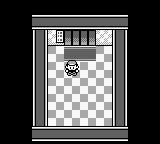leer: (55, 31, 64, 43)
main: (65, 61, 79, 75)
no-caminable: (0, 15, 159, 143), (32, 28, 48, 126), (112, 30, 128, 126), (31, 14, 129, 28), (32, 126, 128, 140)
puerta: (62, 47, 99, 61), (64, 30, 96, 45)
